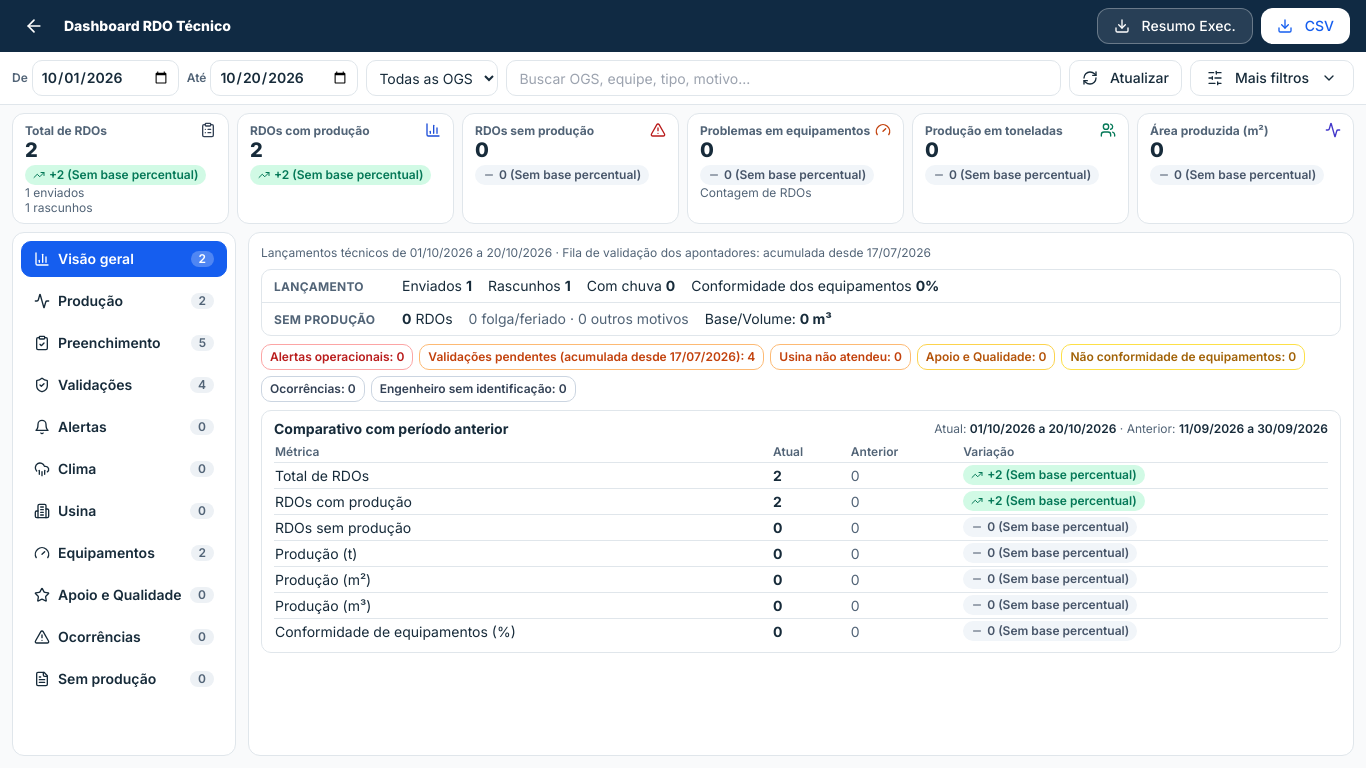
Test case: Dashboard Técnico — fase 2 › inclui Adenilton, Leticia e Tiago mesmo sem RDO ou designação no período
Click the button "Preenchimento 5" at (124, 343), box x1=21 y1=325 x2=227 y2=361
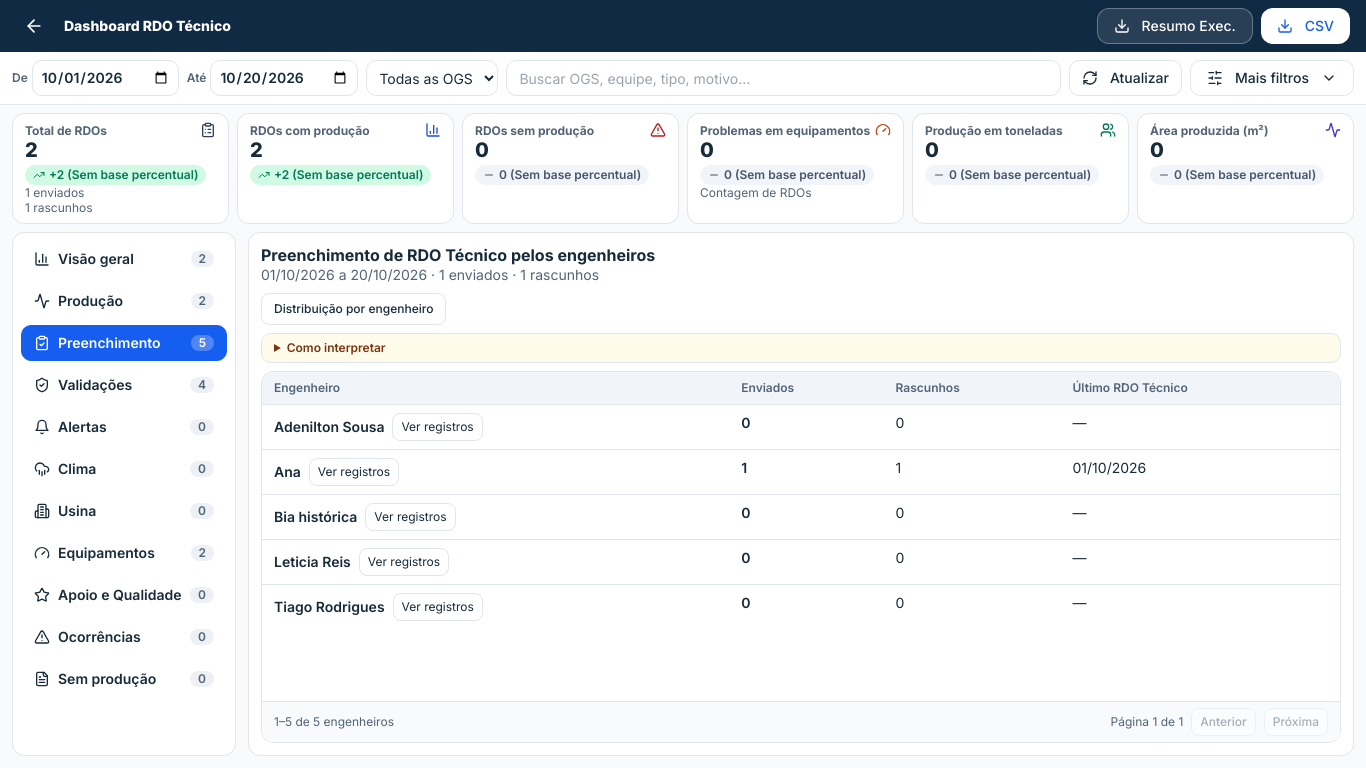
Click the button "Validações 4" at (124, 385), box x1=21 y1=367 x2=227 y2=403
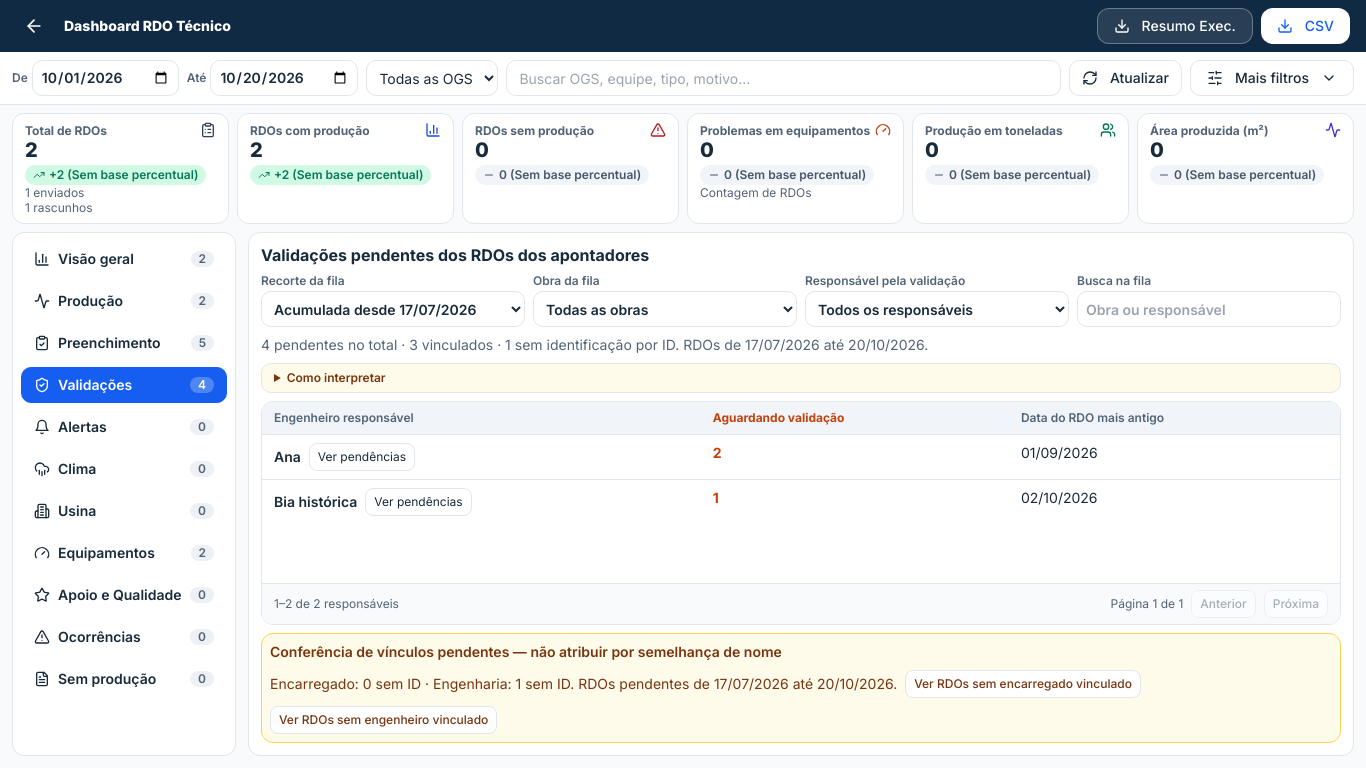
Check: the text with test id "total-fila-validacao" shows "4 pendentes no total · 3 vinculados · 1 sem identificação por ID", box x1=261 y1=336 x2=928 y2=353
